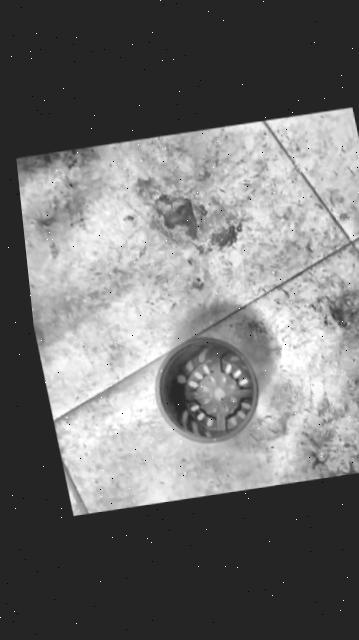pot: (144, 330, 267, 451)
